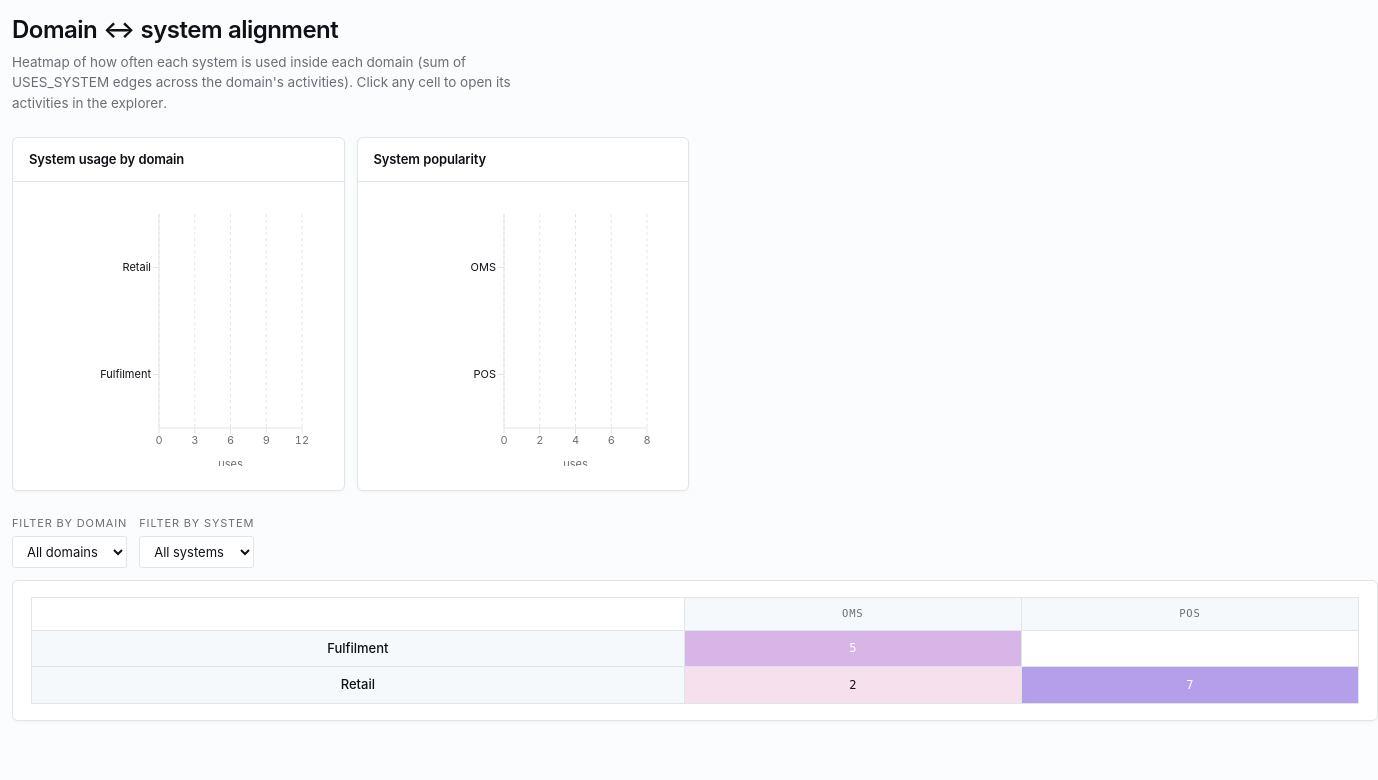
Test: cto-analytics T-08 — matrix pre-filters (FR-02) › system filter cuts the columns
Select "OMS" in the dropdown with test id "system-filter" at [197, 552], box [139,536,254,568]
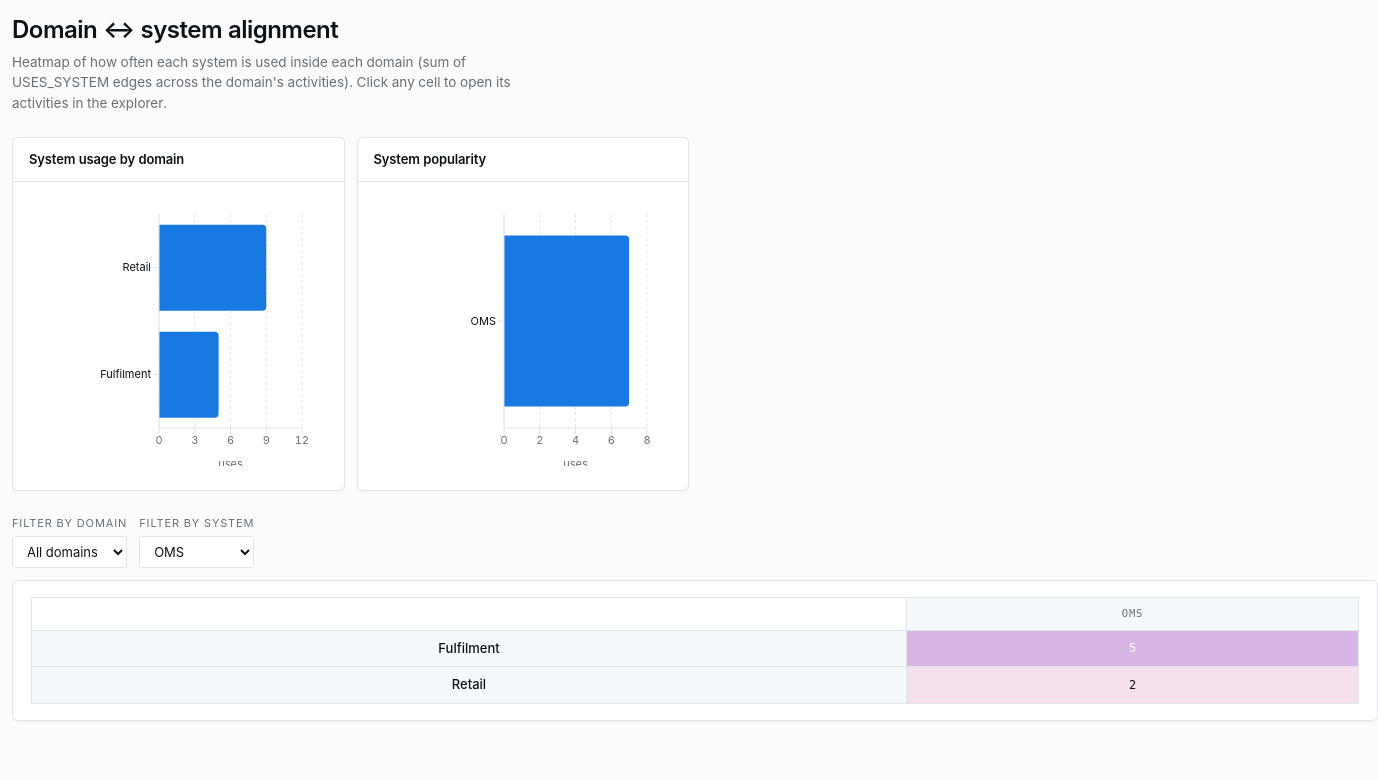
Now the number of links with test id "matrix-cell" is 2, box [1129,641,1136,655]; [1129,678,1136,692]
